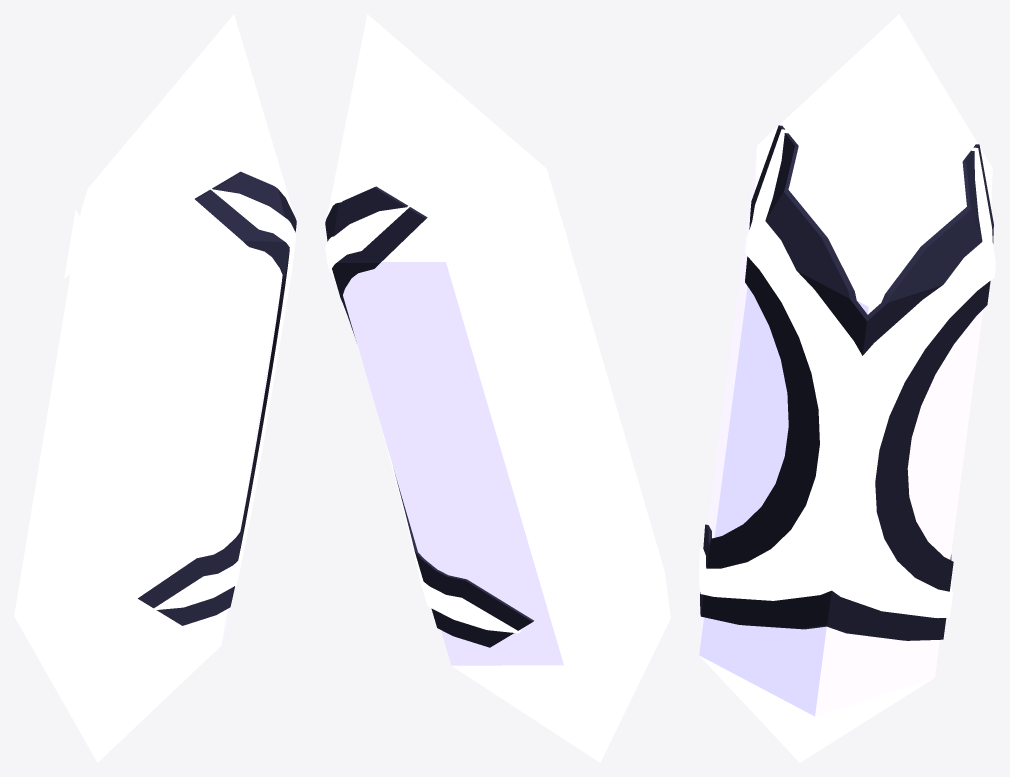
The model's file is luna_shard.glb.
3 views of the same model, side by side, from view 1: azimuth 30°, elevation 25°; view 2: azimuth 150°, elevation 25°; view 3: azimuth 270°, elevation 25° (orthographic). The views are drawn at different scales.
Parts seen in each view (by area): view 1: luna_shard; view 2: luna_shard; view 3: luna_shard.
Part boxes in pixels (x1,y1,x2,y2): luna_shard: (14,14,296,762); luna_shard: (325,14,670,762); luna_shard: (699,14,995,762).
Size of the model in its own units: 0.111 by 0.24 by 0.0753.
